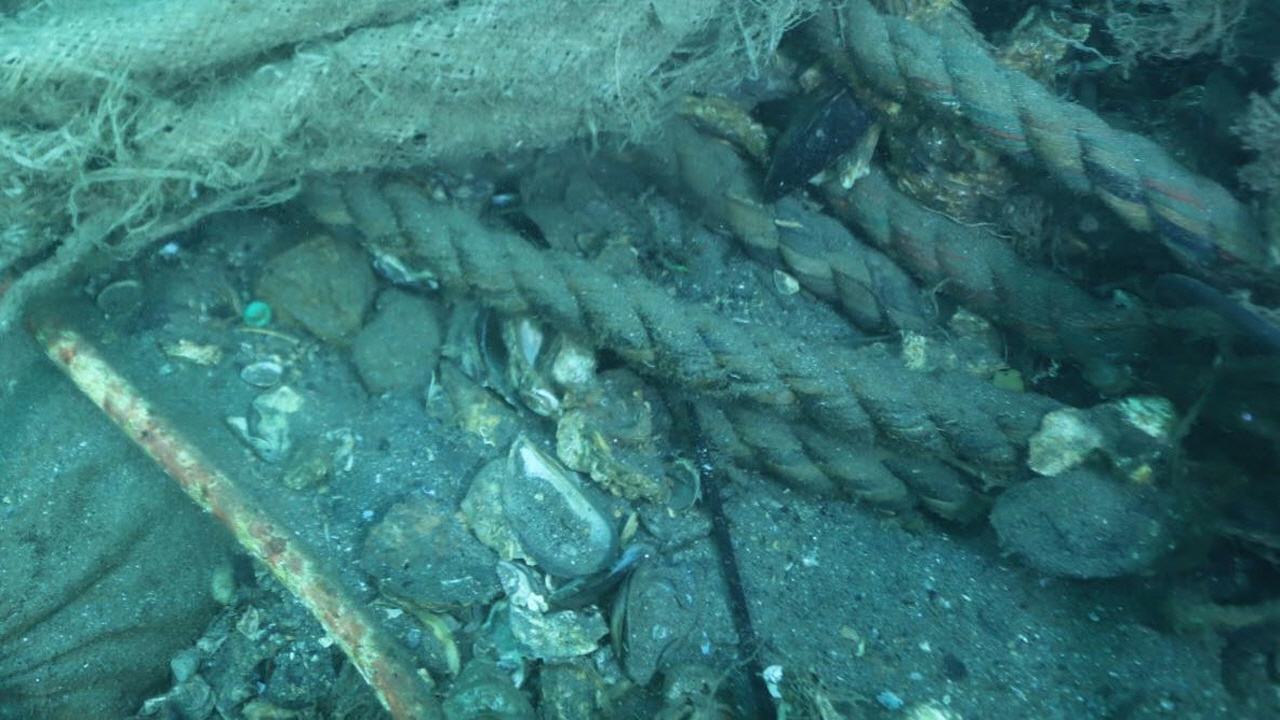bundle of ropes: (292, 0, 1280, 526)
